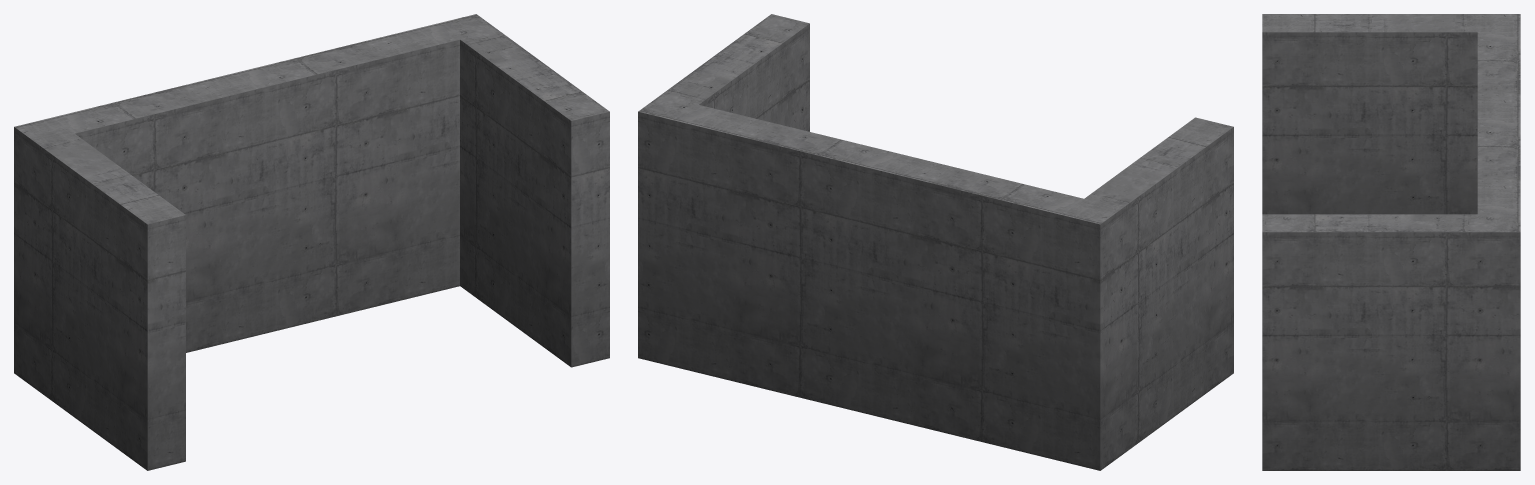
File: AMB_RAIL_BLOCK.glb
3 renders of one model, left to right at view 1: azimuth 30°, elevation 25°; view 2: azimuth 150°, elevation 25°; view 3: azimuth 270°, elevation 25°, orthographic. The views are drawn at different scales.
Parts seen in each view (by area): view 1: BASE; view 2: BASE; view 3: BASE.
Part boxes in pixels (x1,y1,x2,y2): BASE: [14, 14, 609, 470]; BASE: [638, 14, 1233, 470]; BASE: [1262, 14, 1520, 470].
Size of the model in its own units: 12 by 6.11 by 6.
Materials: 1 (1 with a texture image).
